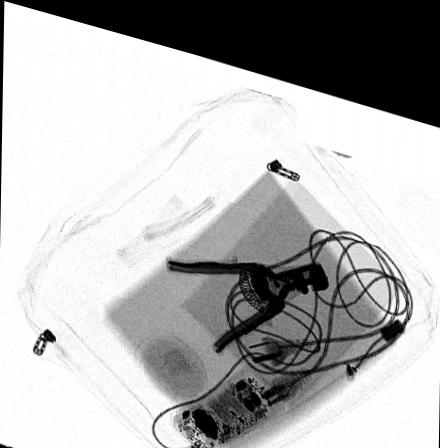Pliers: (164, 243, 329, 340)
